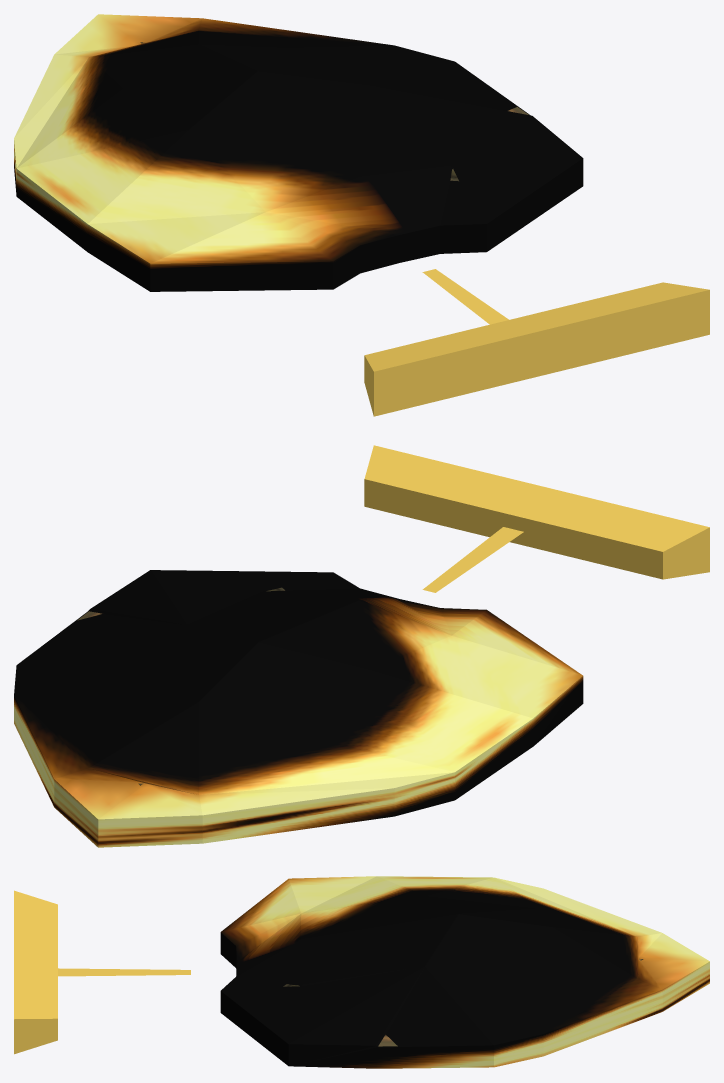
Rendered from bbrd_tx_zhanshenxunzhang_04.obj.
3 renders of one model, top to bottom at view 1: azimuth 30°, elevation 25°; view 2: azimuth 150°, elevation 25°; view 3: azimuth 270°, elevation 25°, orthographic. The views are drawn at different scales.
Visible parts, largest first — view 1: liuguang, Box01; view 2: liuguang, Box01; view 3: liuguang, Box01.
Part boxes in pixels (x1,y1,x2,y2): liuguang: [14, 14, 583, 291]; Box01: [364, 269, 709, 416]; liuguang: [14, 570, 583, 847]; Box01: [364, 445, 709, 592]; liuguang: [220, 876, 709, 1068]; Box01: [14, 890, 190, 1054].
Size of the model in its own units: 20.83 by 6.54 by 35.92.
3 materials, 3 textured.
